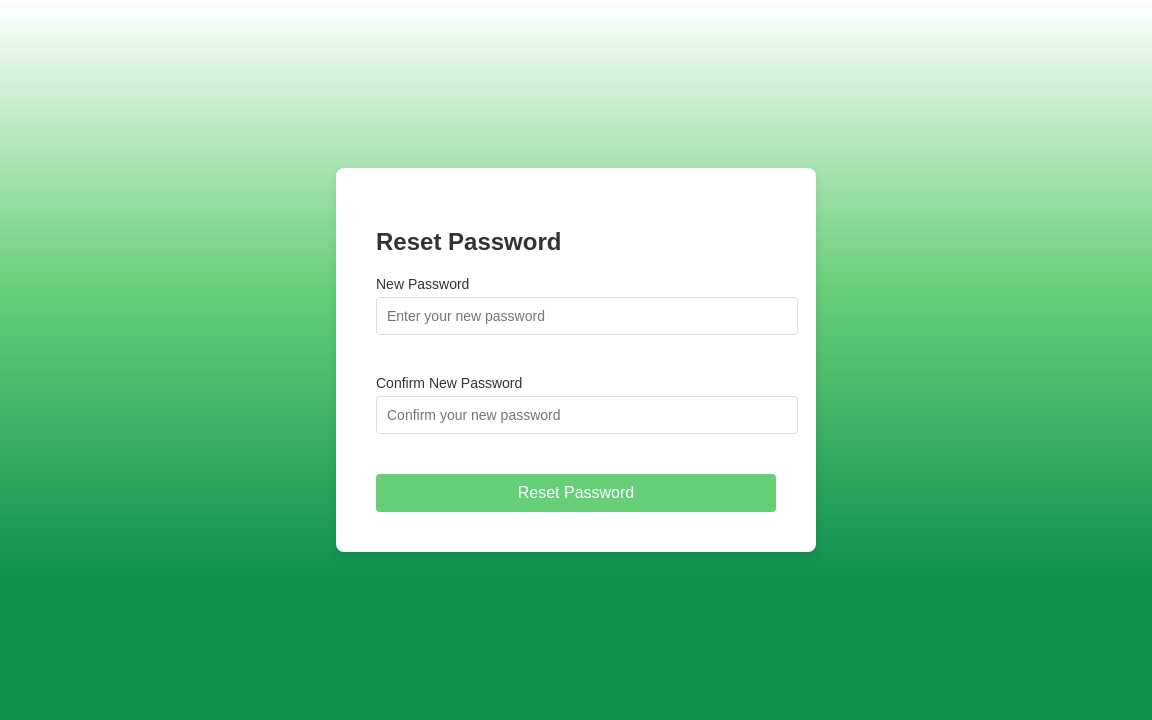
Scenario: ResetPassword Component › shows error when passwords do not match
Type "Password1!" into the password field with test id "password-input" at (587, 316), box [376,297,798,335]
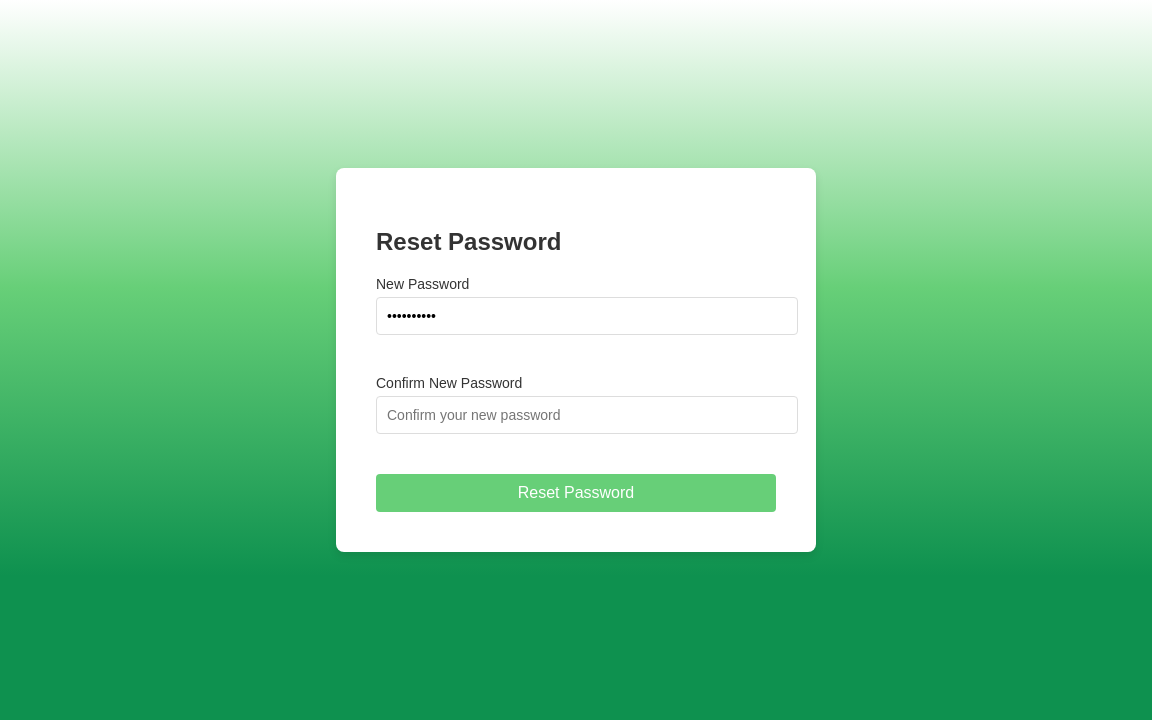
Type "Password2!" into the password field with test id "confirm-password-input" at (587, 415), box [376,396,798,434]
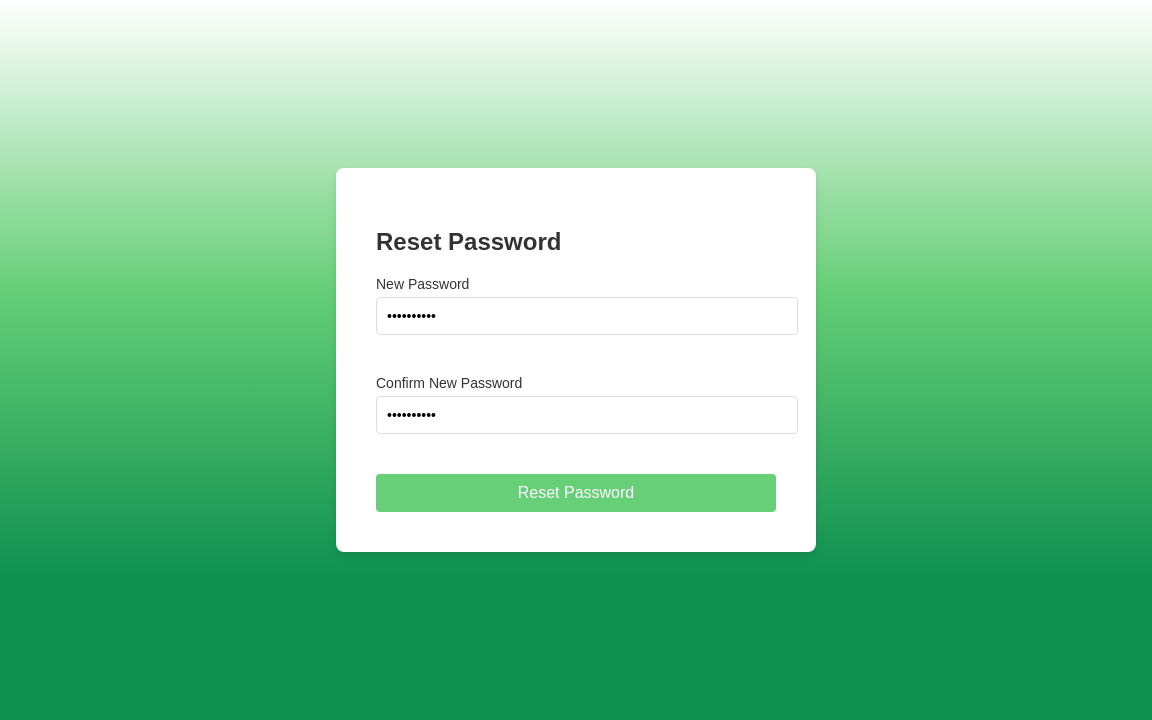
Click the button with test id "submit-button" at (576, 493), box [376,474,776,512]
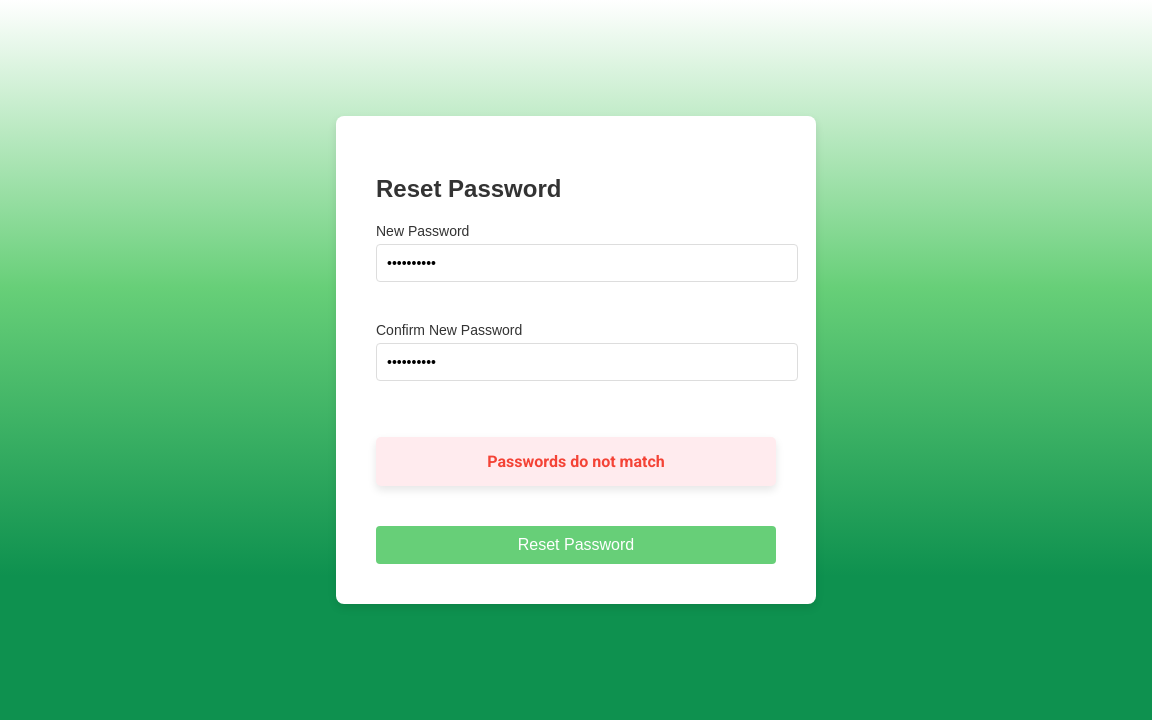
expect the text with test id "auth-error" reads "Passwords do not match": met, box [487,452,665,472]
